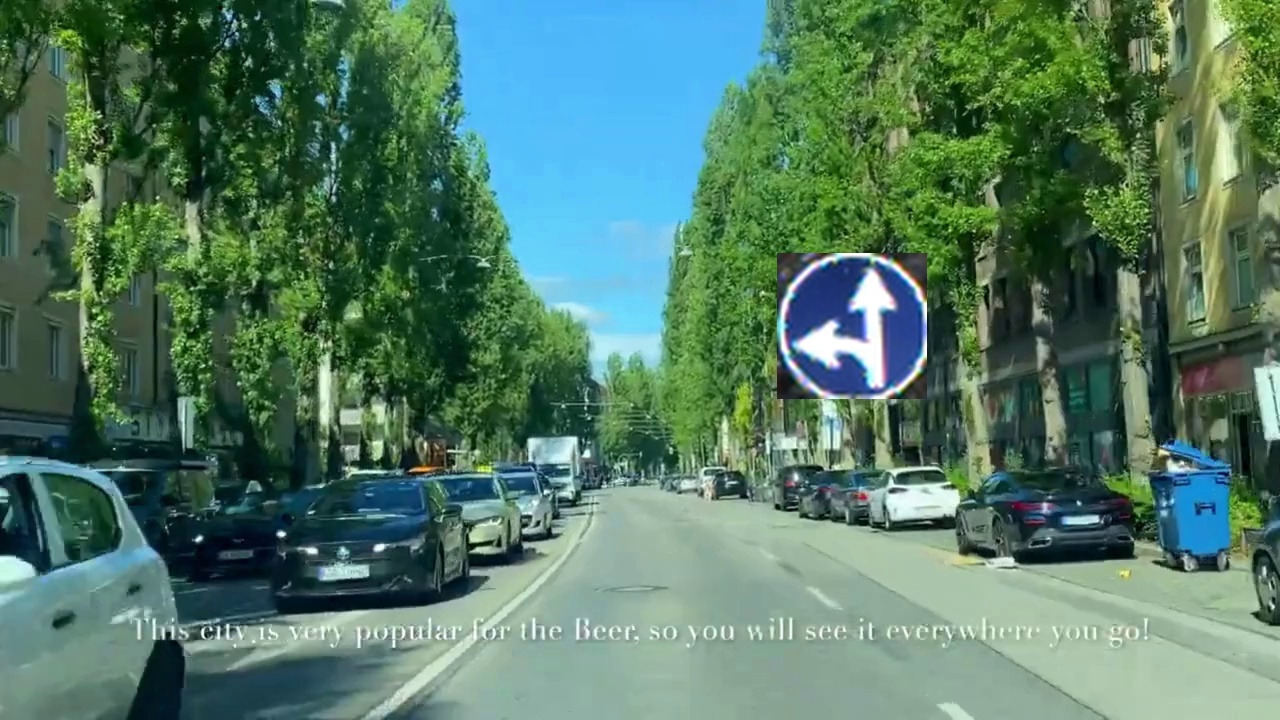Straight/left: (777, 253, 927, 399)
